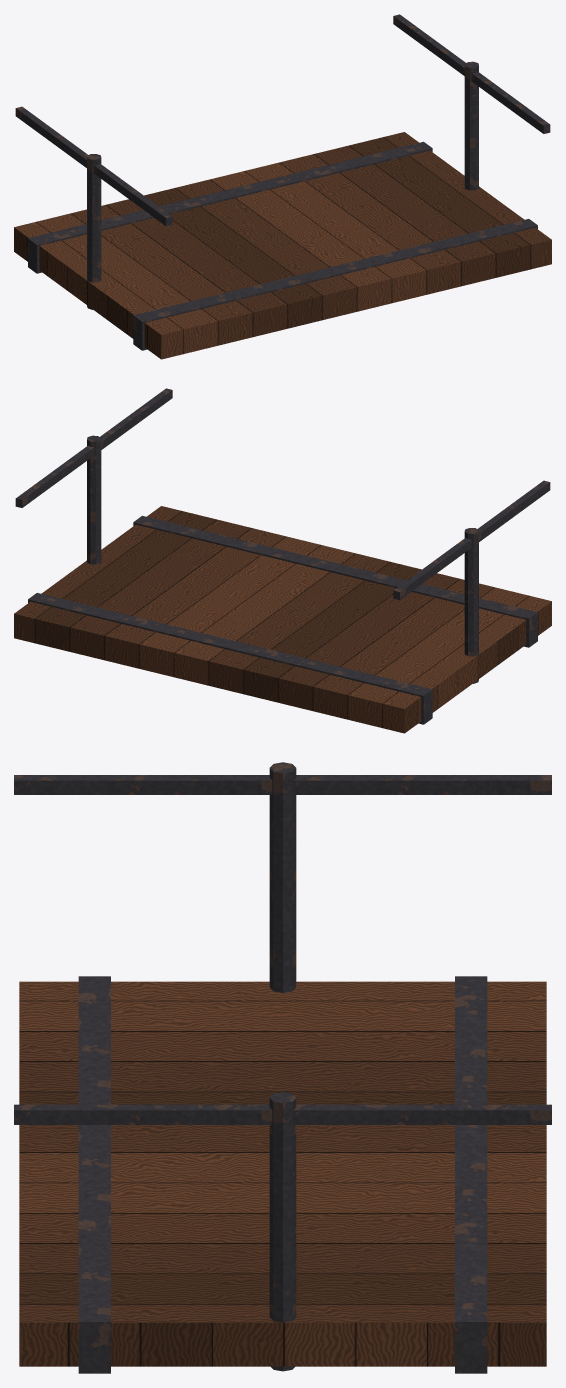
File: dun_plank.glb
3 renders of one model, top to bottom at view 1: azimuth 30°, elevation 25°; view 2: azimuth 150°, elevation 25°; view 3: azimuth 270°, elevation 25°, orthographic. The views are drawn at different scales.
Parts seen in each view (by area): view 1: dun_plank_dwood_0, dun_plank_iron_0; view 2: dun_plank_dwood_0, dun_plank_iron_0; view 3: dun_plank_dwood_0, dun_plank_iron_0.
Boxes of the visible parts, x1,y1,x2,y2 form: dun_plank_dwood_0: (14,132,551,359); dun_plank_iron_0: (15,14,550,350); dun_plank_dwood_0: (14,506,551,733); dun_plank_iron_0: (15,388,550,724); dun_plank_dwood_0: (19,981,546,1366); dun_plank_iron_0: (14,762,551,1373).
Bounding box in the file's own units: 3.04 × 1.1 × 2.
Materials: 2 (2 with a texture image).
